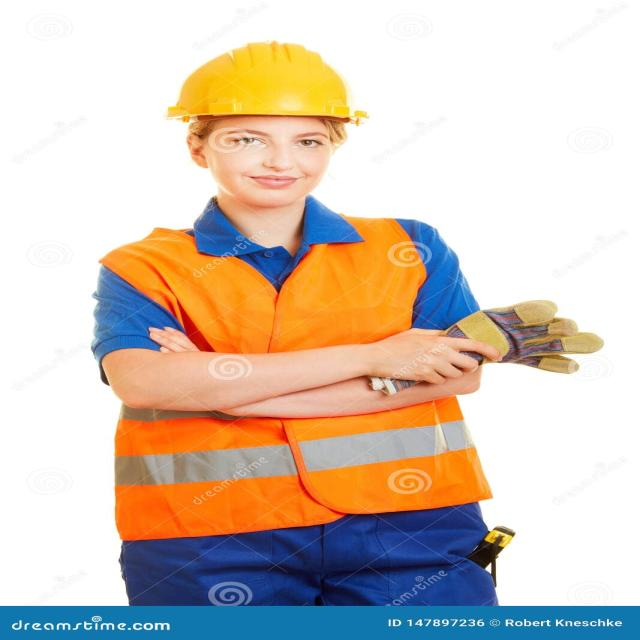helmet: (180, 38, 378, 124)
no-goggles: (194, 124, 354, 157)
vest: (108, 216, 503, 524)
